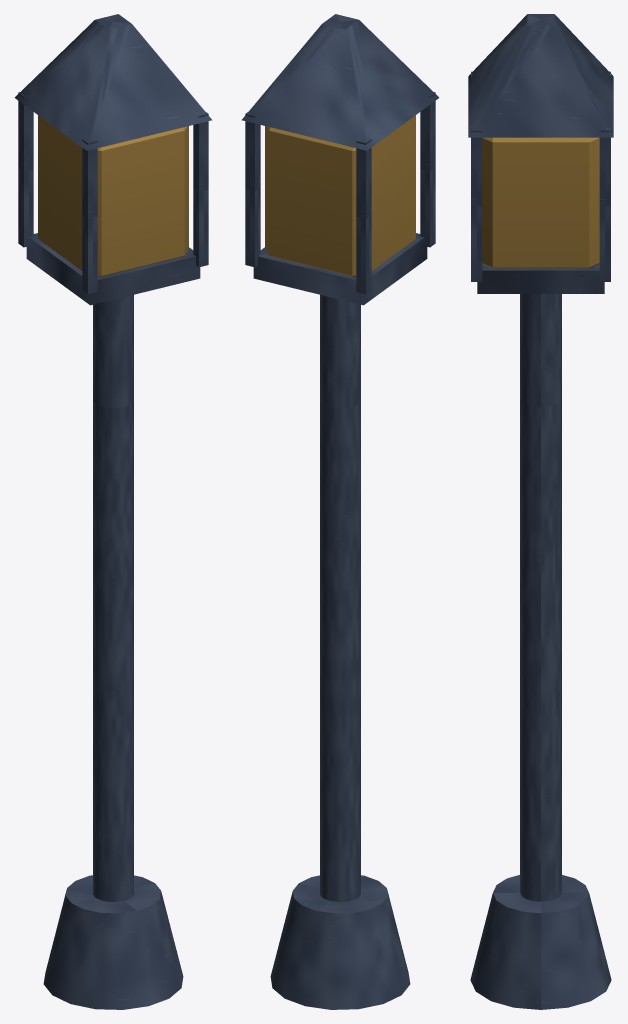
The model's file is Streetlamp.fbx.
3 renders of one model, left to right at view 1: azimuth 30°, elevation 25°; view 2: azimuth 150°, elevation 25°; view 3: azimuth 270°, elevation 25°, orthographic.
Parts seen in each view (by area): view 1: Streetlamp.001; view 2: Streetlamp.001; view 3: Streetlamp.001.
Part boxes in pixels (x1,y1,x2,y2): Streetlamp.001: [14, 14, 212, 1009]; Streetlamp.001: [241, 14, 439, 1009]; Streetlamp.001: [468, 14, 613, 1009].
Size of the model in its own units: 45.25 by 330 by 45.25.
2 materials, 2 textured.
